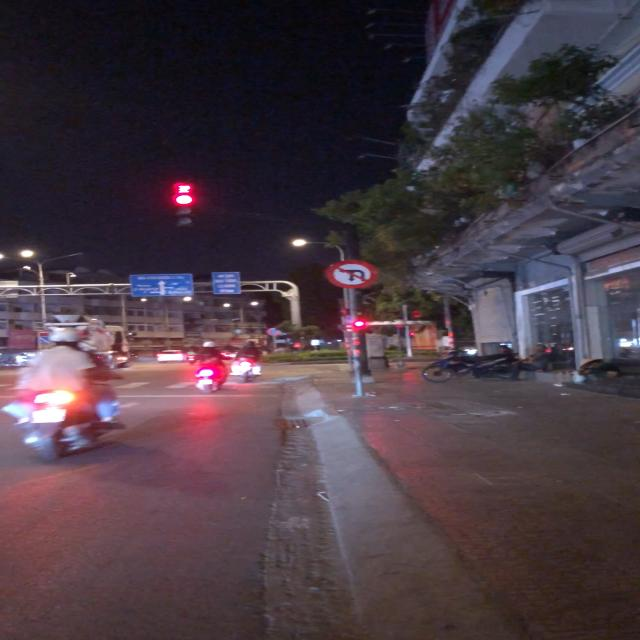Bien bao cam re trai va quay dau: (323, 258, 379, 290)
